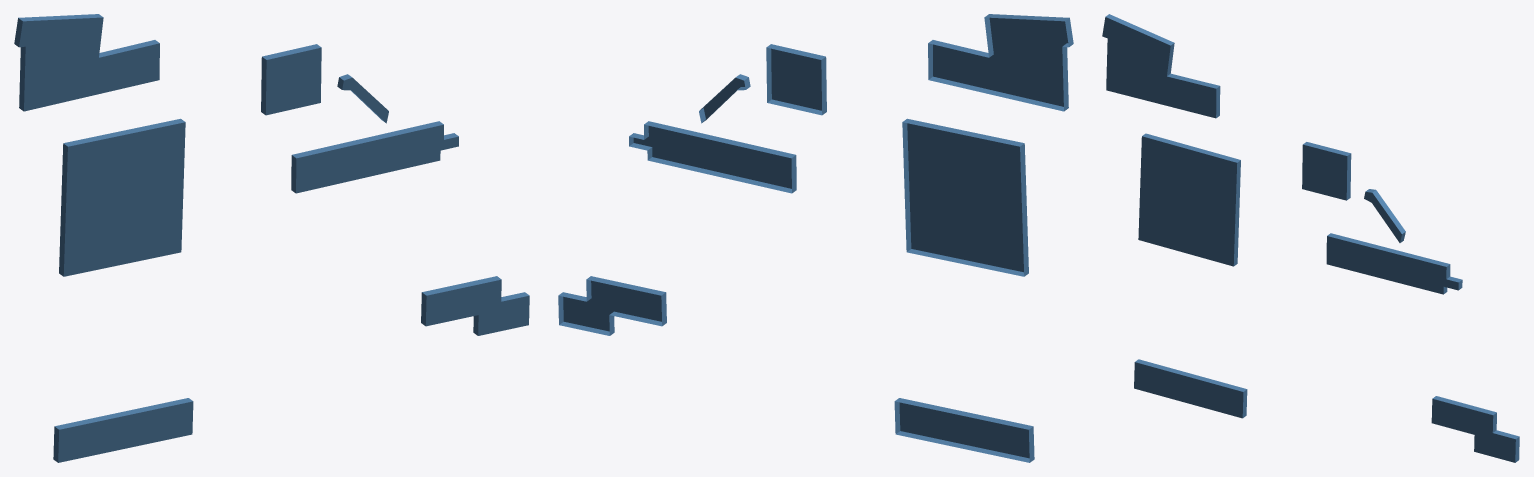
Rendered from buildings_k27.obj.
3 renders of one model, left to right at view 1: azimuth 30°, elevation 25°; view 2: azimuth 150°, elevation 25°; view 3: azimuth 330°, elevation 25°, orthographic. The views are drawn at different scales.
Visible parts, largest first — view 1: roof4, zone4; view 2: roof4, zone4; view 3: roof4, zone4.
Boxes of the visible parts, x1,y1,x2,y2 form: roof4: (19,17,529,462); zone4: (14,14,529,462); roof4: (563,17,1068,458); zone4: (558,14,1073,462); roof4: (1102,17,1515,462); zone4: (1105,14,1519,462).
Bounding box in the file's own units: 214 × 182 × 3.47.
